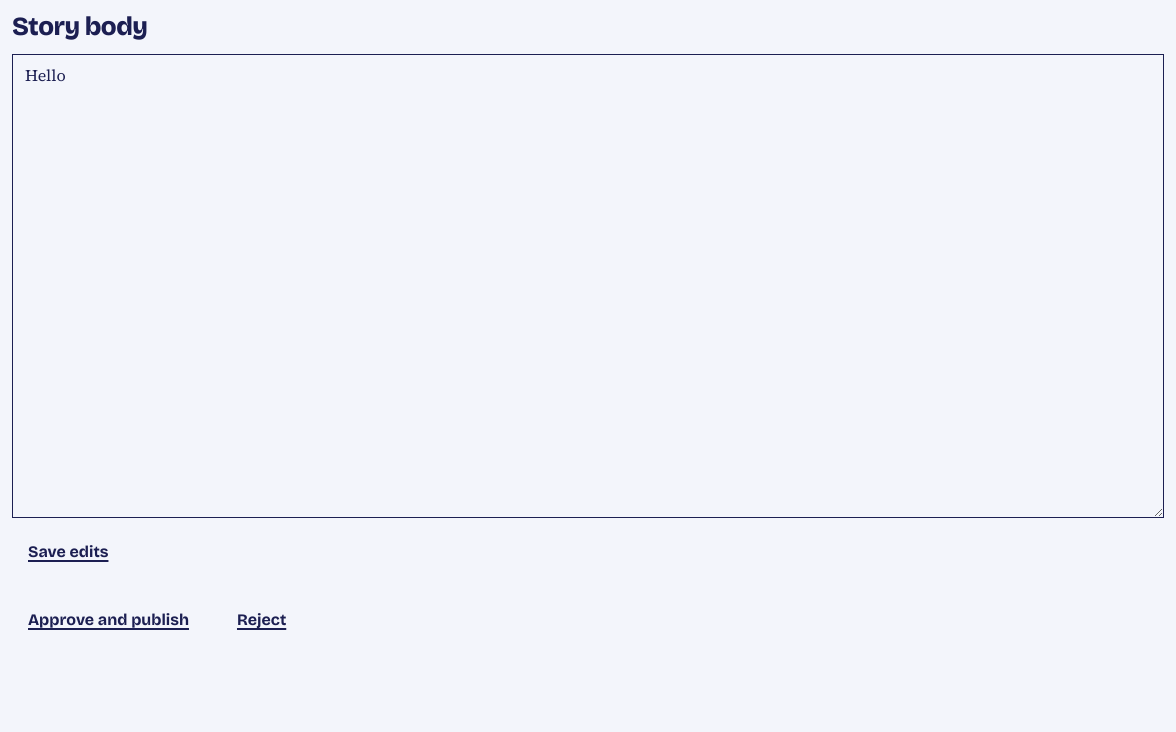
ReviewActions › confirms a save with Saved and clears it on the next edit
The width and height of the screenshot is (1176, 732).
Click the button "Save edits".
click(68, 552)  # box [12,530,124,574]
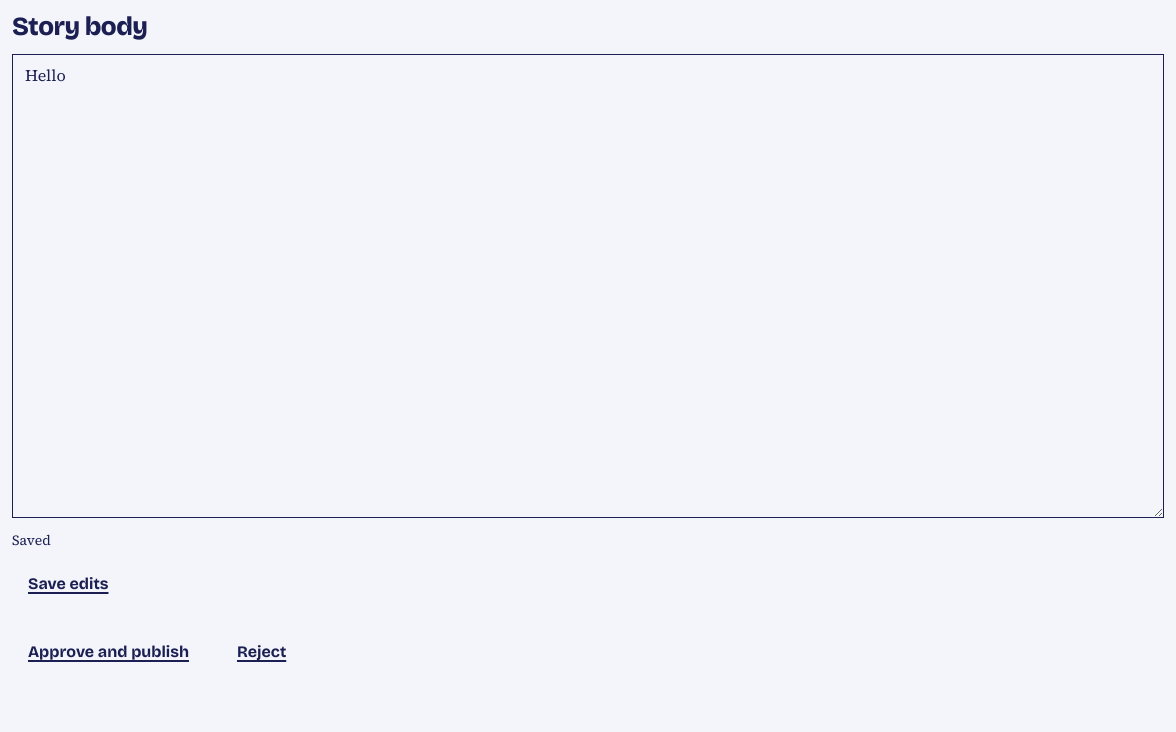
Now the message reads "Saved", box [12,530,51,550]
Type "!" into the text box labelled "Story body".
click(588, 286); type("!")  # box [12,54,1164,518]
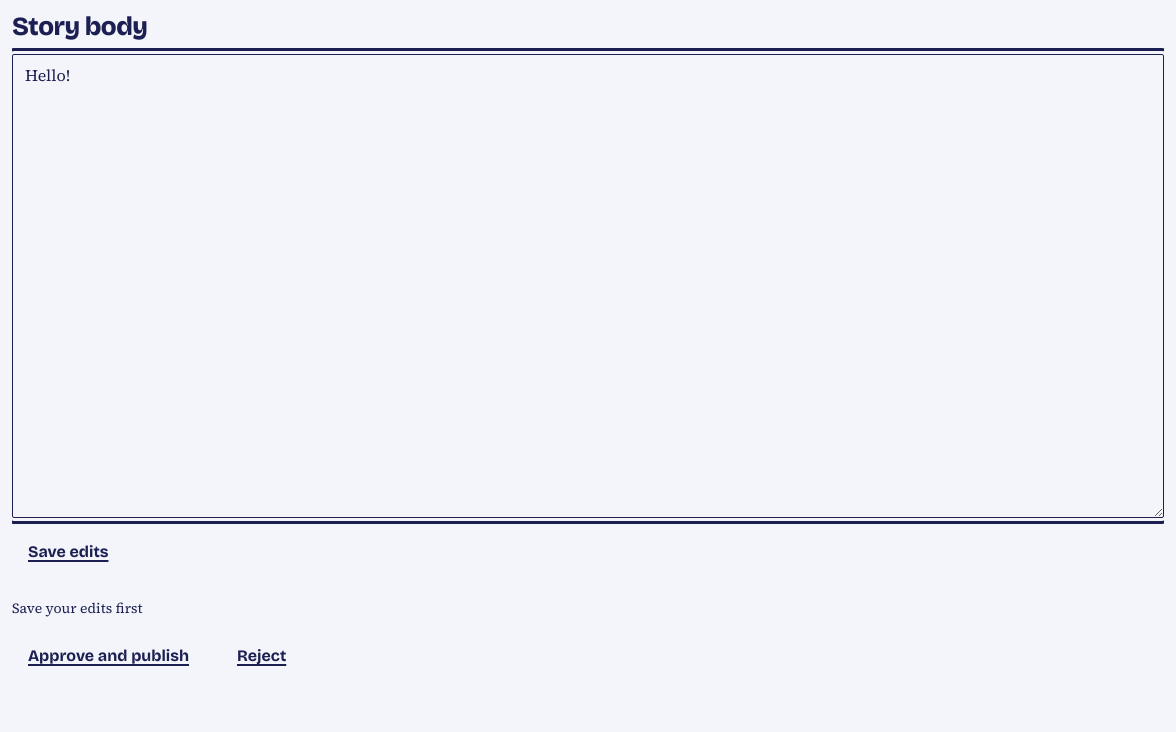
Now the message "Saved" is gone
